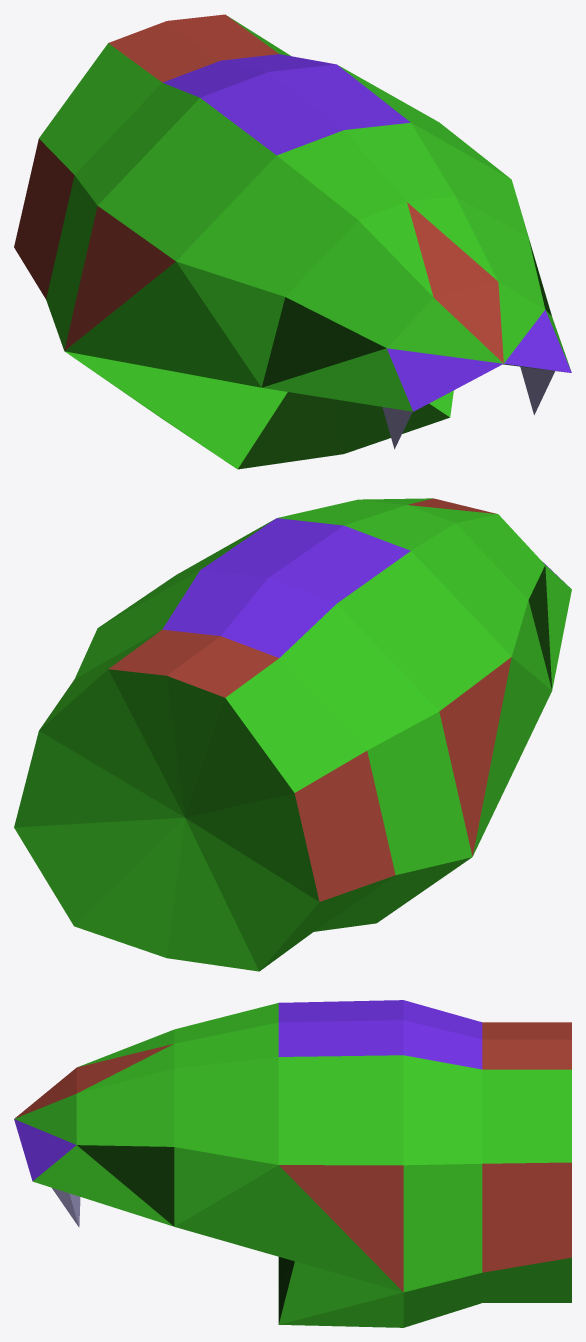
The model's file is cabeza1.glb.
The picture shows the model from 3 angles, top to bottom: view 1: azimuth 30°, elevation 25°; view 2: azimuth 150°, elevation 25°; view 3: azimuth 270°, elevation 25°; orthographic projection. The views are drawn at different scales.
Parts seen in each view (by area): view 1: Cabeza; view 2: Cabeza; view 3: Cabeza.
Boxes of the visible parts, <box> form: Cabeza: <box>14,14,571,469</box>; Cabeza: <box>14,498,571,971</box>; Cabeza: <box>14,1000,571,1327</box>.
Size of the model in its own units: 2.92 by 2.26 by 4.18.
